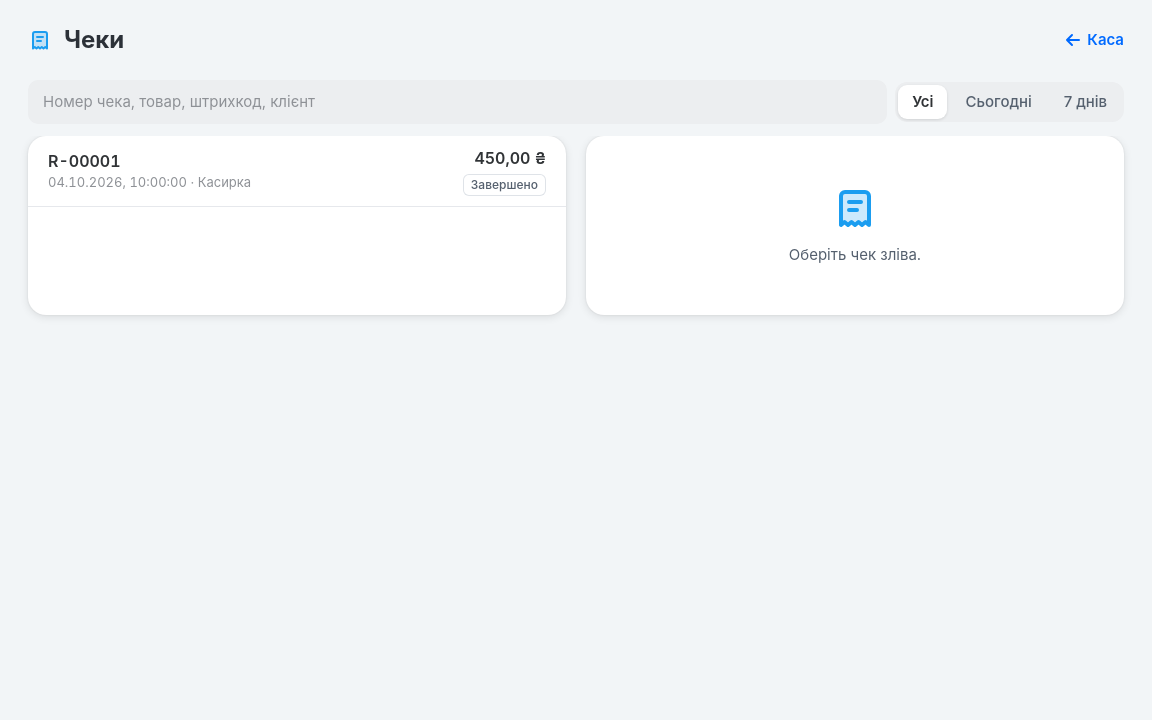
Scenario: TillReceiptsPage — «Обмін» › is disabled while the till has no connection
The image size is (1152, 720).
Click the button "R-00001 04.10.2026, 10:00:00 · Касирка 450,00 ₴ Завершено" at (84, 161), box [28,136,566,206]
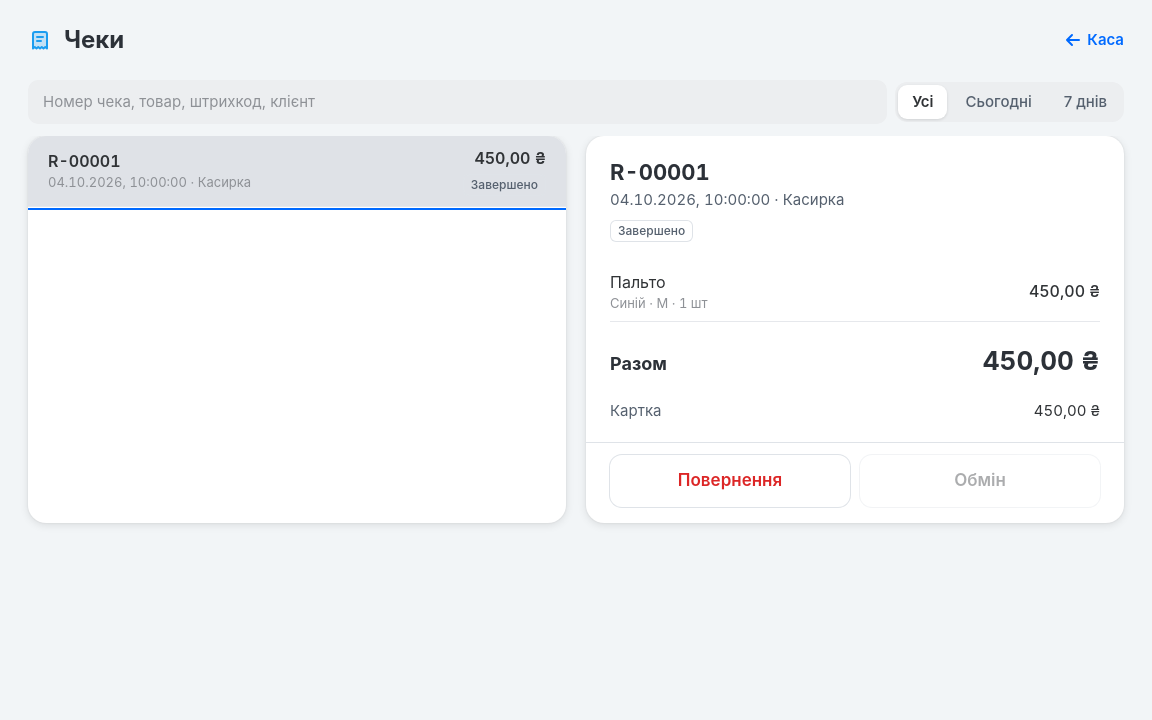
Result: the button "Обмін" is disabled at [860,454,1100,506]
